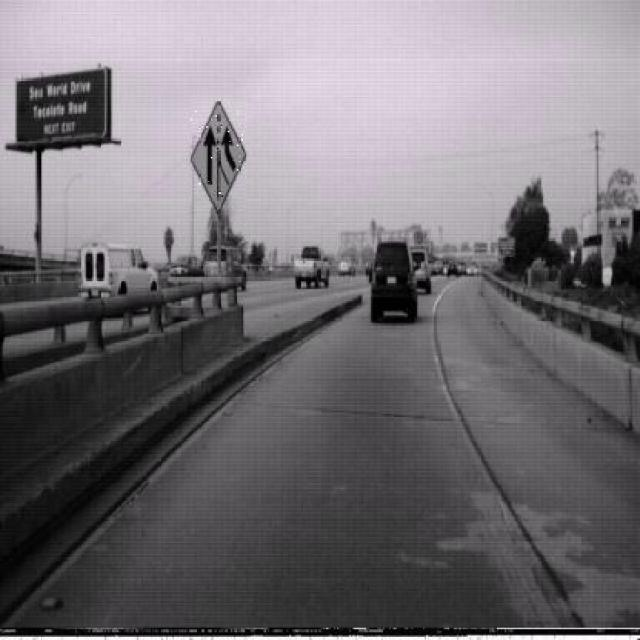addedLane: (190, 101, 247, 216)
